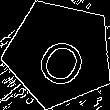O_NE: (27, 20, 91, 87)
